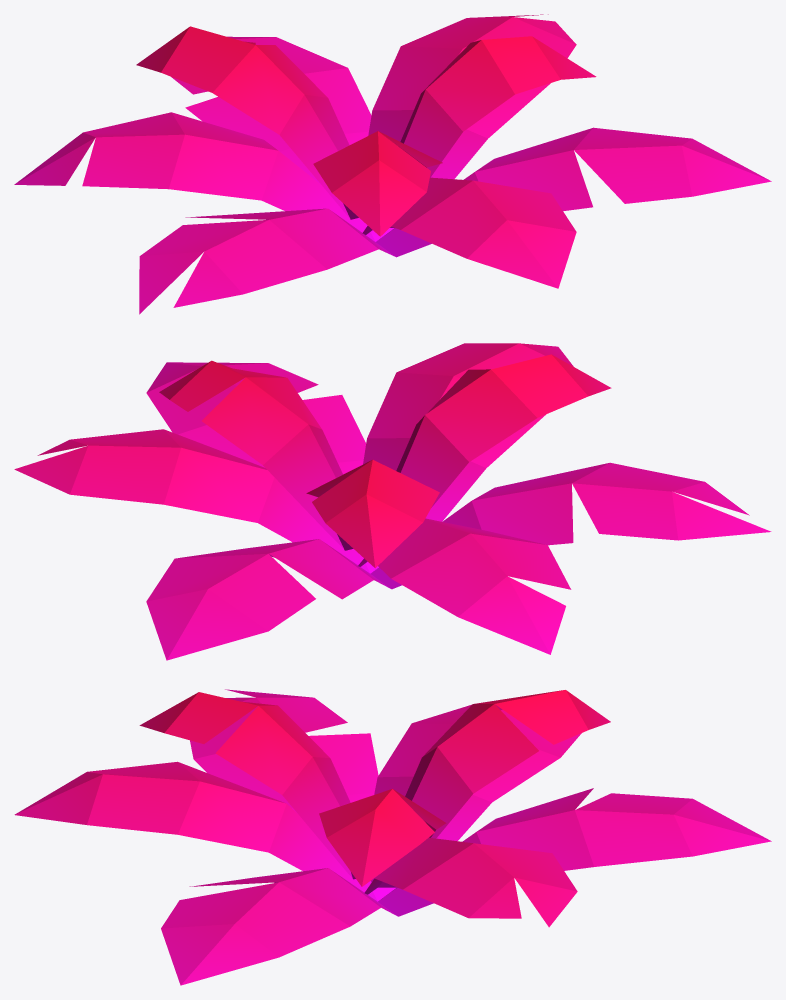
Rendered from synty-plant-fern-01.gltf.
3 views of the same model, one above another, from view 1: azimuth 30°, elevation 25°; view 2: azimuth 150°, elevation 25°; view 3: azimuth 270°, elevation 25° (orthographic). The views are drawn at different scales.
Visible parts, largest first — view 1: SM_Plant_Fern_01; view 2: SM_Plant_Fern_01; view 3: SM_Plant_Fern_01.
Part boxes in pixels (x1,y1,x2,y2): SM_Plant_Fern_01: [14, 14, 771, 314]; SM_Plant_Fern_01: [14, 343, 771, 660]; SM_Plant_Fern_01: [14, 689, 771, 985].
Bounding box in the file's own units: 1.29 × 0.3419 × 1.4.
Materials: 1 (1 with a texture image).
